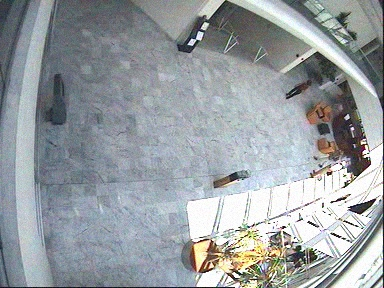person: (309, 160, 345, 178), (314, 149, 345, 166), (284, 81, 311, 99)
